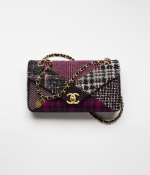channel: (23, 50, 125, 125), (32, 71, 47, 102), (67, 88, 86, 105)
